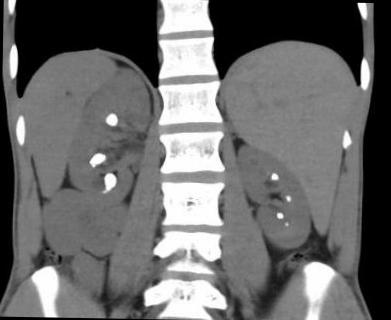Tas_Var: (96, 110, 122, 130), (98, 172, 121, 190), (84, 151, 108, 165), (264, 170, 280, 182), (272, 212, 286, 220), (284, 192, 292, 204), (282, 220, 290, 229), (98, 190, 111, 195), (84, 164, 100, 168)
